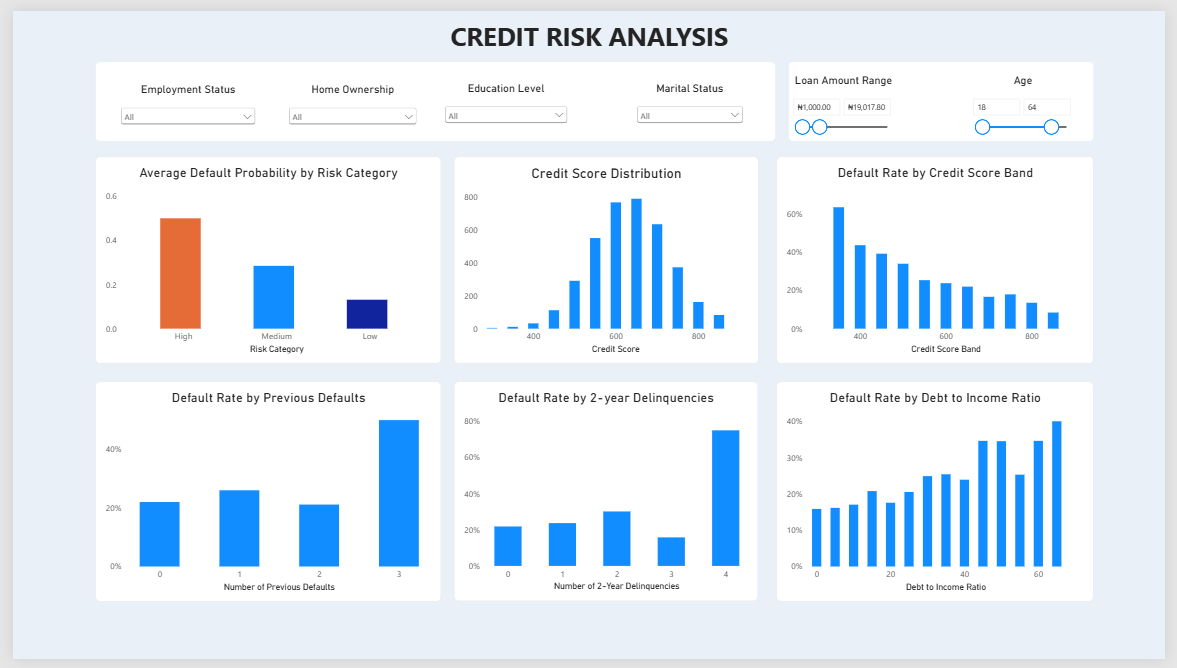

Layout of this report page (visuals, bound fields, positions):
{"tool":"powerbi","page":{"name":"Credit Risk Analysis","canvas":[1920,1080],"ordinal":1},"visuals":[{"type":"shape","box":[1292.4,84,508.8,131.7],"z":0},{"type":"shape","box":[138.5,84,1133.4,131.7],"z":1000},{"type":"clusteredColumnChart","title":"Average Default Probability by Risk Category","fields":{"Category":["analytics vw_CreditRiskAnalysis.risk_category"],"Y":["Avg(analytics vw_CreditRiskAnalysis.default_probability)"]},"box":[138.1,242.9,576.2,345.2],"z":2000},{"type":"clusteredColumnChart","title":"Credit Score Distribution","fields":{"Category":["analytics vw_CreditRiskAnalysis.credit_score (bins)"],"Y":["CountNonNull(analytics vw_CreditRiskAnalysis.customer_id)"]},"box":[735.7,242.9,507.1,345.2],"z":3000},{"type":"clusteredColumnChart","title":"Default Rate by Credit Score Band","fields":{"Category":["analytics vw_CreditRiskAnalysis.credit_score (bins)"],"Y":["analytics vw_CreditRiskAnalysis.Default Rate"]},"box":[1271.4,242.9,528.6,345.2],"z":4000},{"type":"clusteredColumnChart","title":"Default Rate by Debt to Income Ratio","fields":{"Category":["analytics vw_CreditRiskAnalysis.debt_to_income_ratio (bins)"],"Y":["analytics vw_CreditRiskAnalysis.Default Rate"]},"box":[1271.4,616.7,528.6,366.7],"z":5000},{"type":"clusteredColumnChart","title":"Default Rate by Previous Defaults","fields":{"Category":["analytics vw_CreditRiskAnalysis.previous_defaults"],"Y":["analytics vw_CreditRiskAnalysis.Default Rate"]},"box":[138.1,616.7,576.2,366.7],"z":6000},{"type":"clusteredColumnChart","title":"Default Rate by 2-year Delinquencies","fields":{"Category":["analytics vw_CreditRiskAnalysis.delinquency_2yrs"],"Y":["analytics vw_CreditRiskAnalysis.Default Rate"]},"box":[735.7,616.7,506.5,365.7],"z":7000},{"type":"textbox","box":[629.2,13.6,661,90.9],"z":8000},{"type":"slicer","title":"Employment Status","fields":{"Values":["analytics vw_CreditRiskAnalysis.employment_status"]},"box":[173.8,119,233.9,75],"z":9000},{"type":"slicer","title":"Home Ownership","fields":{"Values":["analytics vw_CreditRiskAnalysis.home_ownership"]},"box":[454.8,119,222.6,75],"z":10000},{"type":"slicer","title":"Education Level","fields":{"Values":["analytics vw_CreditRiskAnalysis.education_level"]},"box":[714.3,116.7,213.5,75],"z":11000},{"type":"slicer","title":"Marital Status","fields":{"Values":["analytics vw_CreditRiskAnalysis.marital_status"]},"box":[1035.7,116.7,186.2,81.8],"z":12000},{"type":"slicer","title":"Loan Amount Range","fields":{"Values":["analytics vw_CreditRiskAnalysis.loan_amount"]},"box":[1292.5,105,183.3,121.4],"z":13000},{"type":"slicer","title":"Age","fields":{"Values":["analytics vw_CreditRiskAnalysis.age"]},"box":[1592.2,104.5,181.7,149.9],"z":14000}]}

Visuals, with their boxes in screenshot pixels (x1, y1, x2, y2), scaled from the page's 1920x1080 canvas onto the 1177x668 screenshot:
shape: rect(792, 52, 1104, 133)
shape: rect(85, 52, 780, 133)
"Average Default Probability by Risk Category" clusteredColumnChart: rect(85, 150, 438, 364)
"Credit Score Distribution" clusteredColumnChart: rect(451, 150, 762, 364)
"Default Rate by Credit Score Band" clusteredColumnChart: rect(779, 150, 1103, 364)
"Default Rate by Debt to Income Ratio" clusteredColumnChart: rect(779, 381, 1103, 608)
"Default Rate by Previous Defaults" clusteredColumnChart: rect(85, 381, 438, 608)
"Default Rate by 2-year Delinquencies" clusteredColumnChart: rect(451, 381, 761, 608)
textbox: rect(386, 8, 791, 65)
"Employment Status" slicer: rect(107, 74, 250, 120)
"Home Ownership" slicer: rect(279, 74, 415, 120)
"Education Level" slicer: rect(438, 72, 569, 119)
"Marital Status" slicer: rect(635, 72, 749, 123)
"Loan Amount Range" slicer: rect(792, 65, 905, 140)
"Age" slicer: rect(976, 65, 1087, 157)
